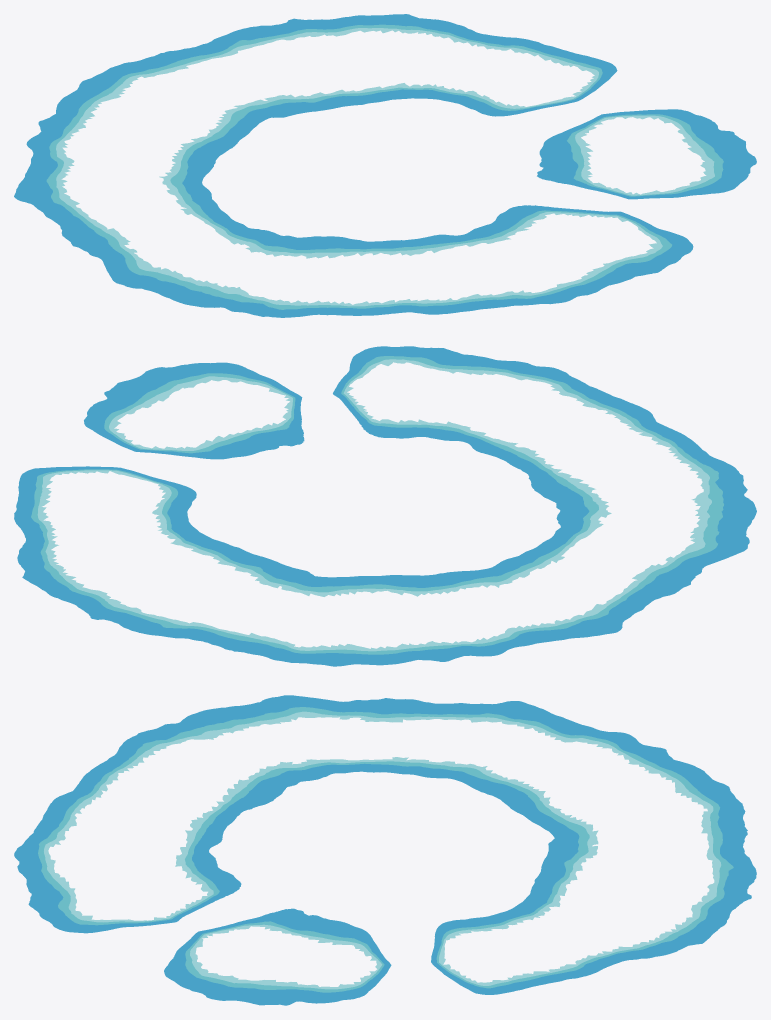
The model's file is Isl-atoll3-Water.fbx.
3 renders of one model, top to bottom at view 1: azimuth 30°, elevation 25°; view 2: azimuth 150°, elevation 25°; view 3: azimuth 270°, elevation 25°, orthographic. The views are drawn at different scales.
Parts seen in each view (by area): view 1: Isl-atoll3-Water; view 2: Isl-atoll3-Water; view 3: Isl-atoll3-Water.
Boxes of the visible parts, x1=… form: Isl-atoll3-Water: x1=14, y1=14, x2=756, y2=317; Isl-atoll3-Water: x1=14, y1=346, x2=756, y2=666; Isl-atoll3-Water: x1=14, y1=695, x2=756, y2=1005.
Bounding box in the file's own units: 139 × 0 × 141.
